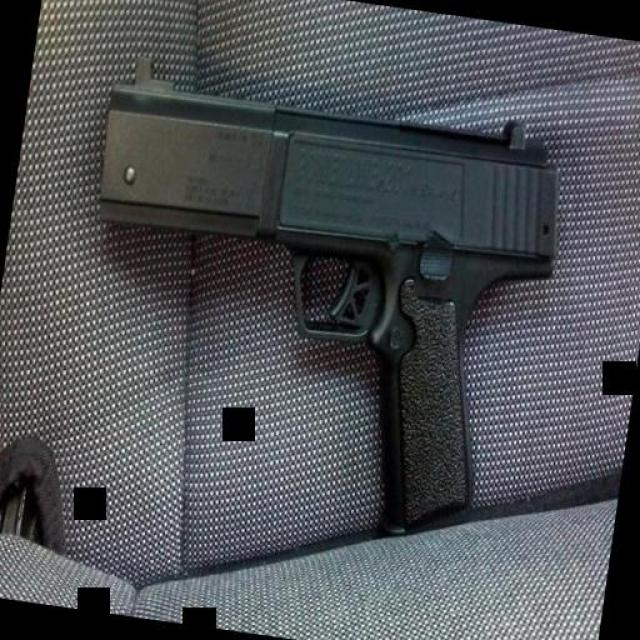gun: (54, 38, 574, 558)
